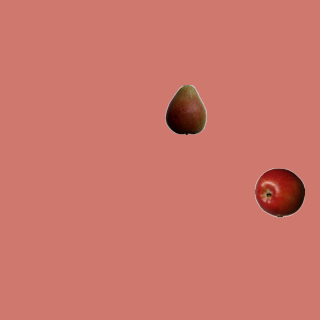Apple Braeburn: (254, 167, 304, 217)
Pear Forelle: (160, 84, 210, 134)
